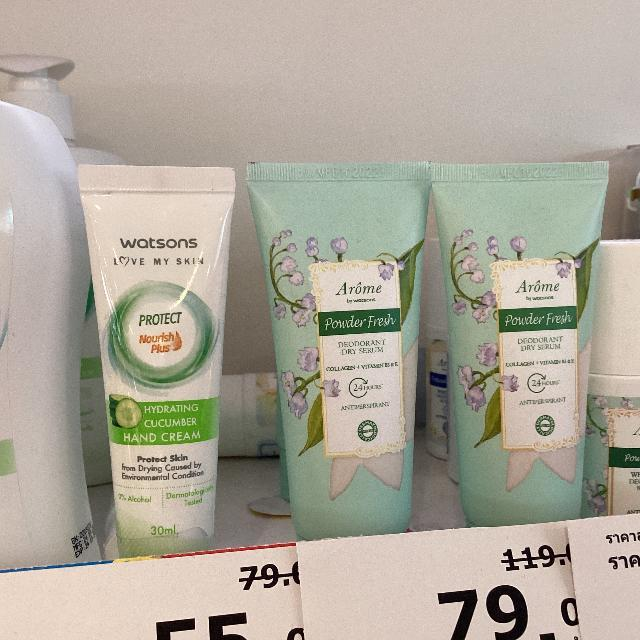Squeeze Tube: (50, 118, 603, 588)
